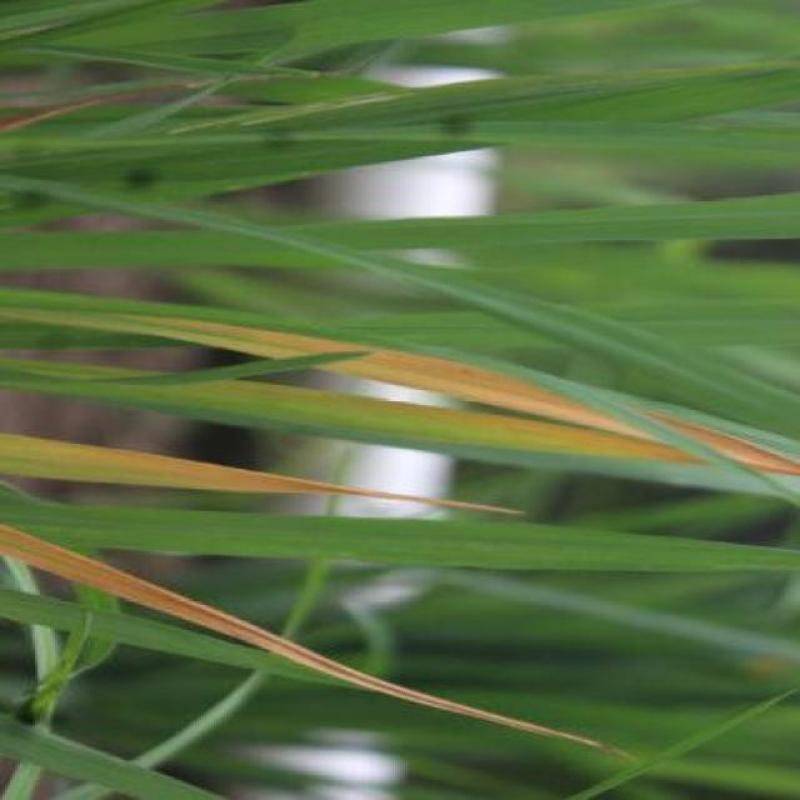Rice Tungro: (142, 585, 612, 750), (358, 344, 772, 486), (91, 440, 529, 532)
